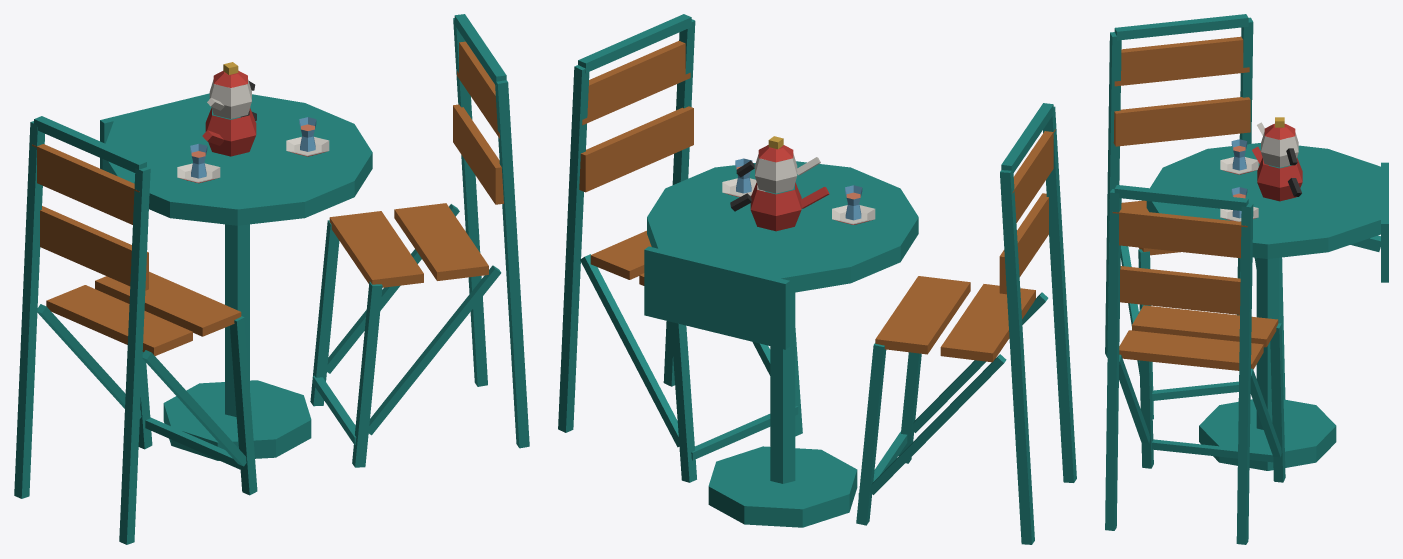
The model's file is balkon_masa.glb.
3 renders of one model, left to right at view 1: azimuth 30°, elevation 25°; view 2: azimuth 150°, elevation 25°; view 3: azimuth 270°, elevation 25°, orthographic. The views are drawn at different scales.
Parts seen in each view (by area): view 1: balkon_masa; view 2: balkon_masa; view 3: balkon_masa.
Part boxes in pixels (box(x1,y1,x2,y2)): balkon_masa: box(14, 14, 529, 544); balkon_masa: box(558, 14, 1076, 544); balkon_masa: box(1105, 14, 1388, 544).
Size of the model in its own units: 1.21 by 0.9131 by 0.7029.
